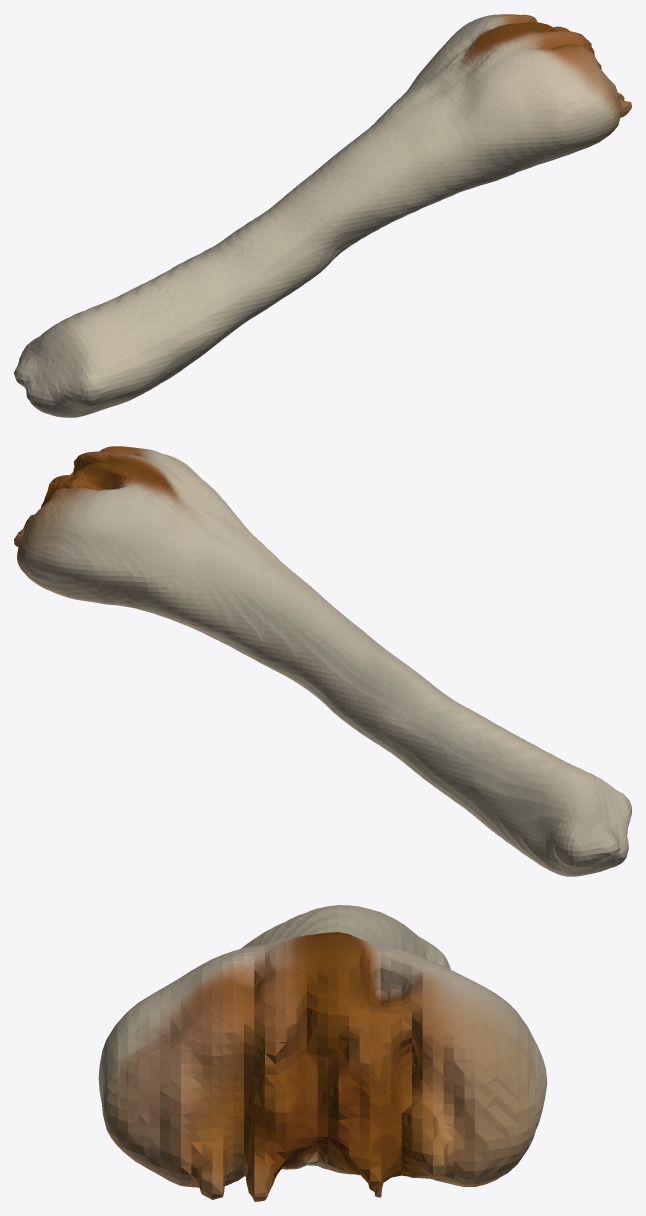
The picture shows the model from 3 angles, top to bottom: view 1: azimuth 30°, elevation 25°; view 2: azimuth 150°, elevation 25°; view 3: azimuth 270°, elevation 25°; orthographic projection. The views are drawn at different scales.
Parts seen in each view (by area): view 1: tmp09uke0ry.ply; view 2: tmp09uke0ry.ply; view 3: tmp09uke0ry.ply.
Boxes of the visible parts, x1,y1,x2,y2 form: tmp09uke0ry.ply: [14, 14, 631, 417]; tmp09uke0ry.ply: [14, 446, 631, 876]; tmp09uke0ry.ply: [98, 905, 547, 1201].
Size of the model in its own units: 1.97 by 0.9047 by 0.6619.
